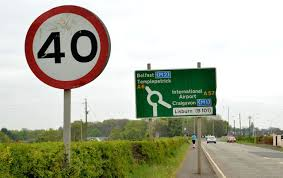sp40: (25, 12, 111, 81)
